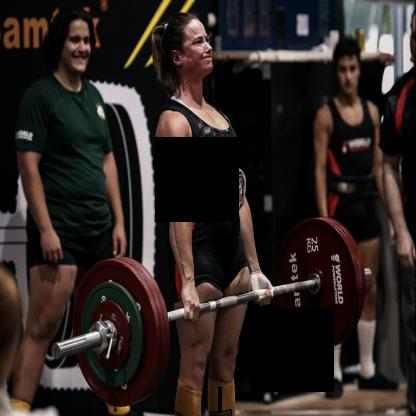barbell: (73, 260, 159, 409), (276, 217, 359, 351)
